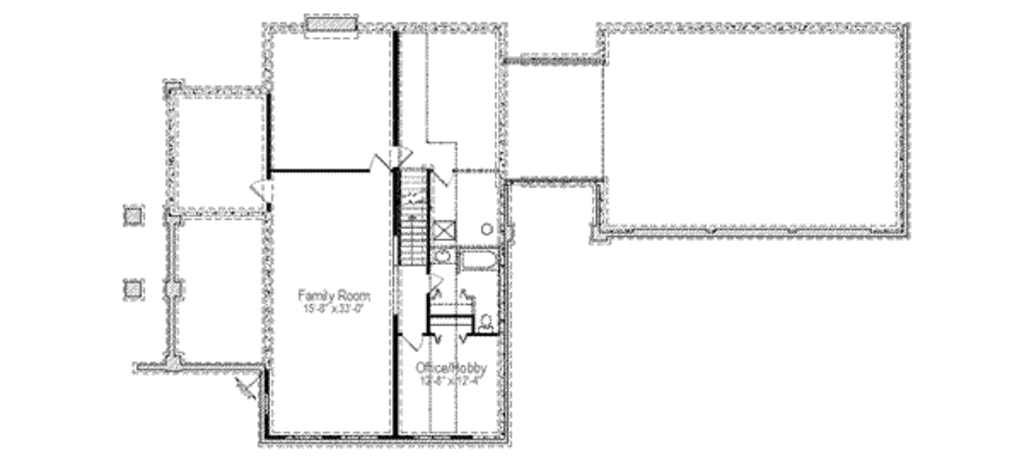door: (241, 164, 270, 203), (398, 328, 429, 357), (418, 265, 446, 295), (425, 162, 454, 188), (362, 151, 386, 180), (386, 143, 412, 167)
large_sink: (474, 305, 500, 339)
small_sink: (431, 244, 456, 266)
stairs: (386, 166, 429, 269)
tub: (460, 245, 504, 275)
